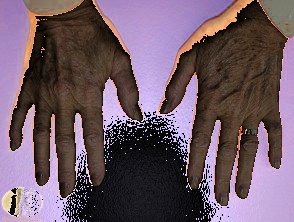Nail_psoriasis: (128, 104, 150, 125), (56, 178, 73, 201), (32, 167, 50, 188), (235, 181, 253, 200), (5, 135, 23, 153), (217, 191, 232, 208), (89, 169, 103, 187), (270, 154, 284, 171), (188, 174, 202, 190)
